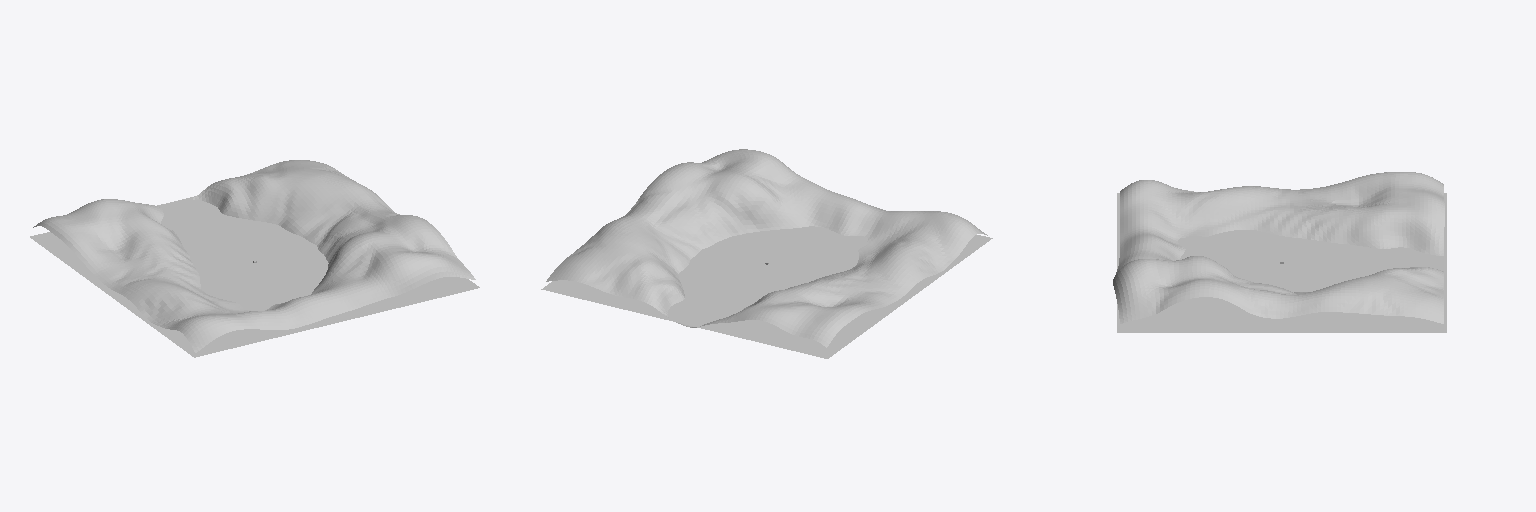
Rendered from mark.obj.
The picture shows the model from 3 angles: view 1: azimuth 30°, elevation 25°; view 2: azimuth 150°, elevation 25°; view 3: azimuth 270°, elevation 25°; orthographic projection.
Visible parts, largest first — view 1: Grid, Plane; view 2: Grid, Plane; view 3: Grid, Plane.
Part boxes in pixels (x1,y1,x2,y2): Grid: (33, 160, 475, 352); Plane: (30, 196, 479, 357); Grid: (546, 149, 987, 347); Plane: (541, 226, 992, 358); Grid: (1113, 172, 1444, 323); Plane: (1117, 193, 1446, 332).
Size of the model in its own units: 203 by 43.57 by 206.